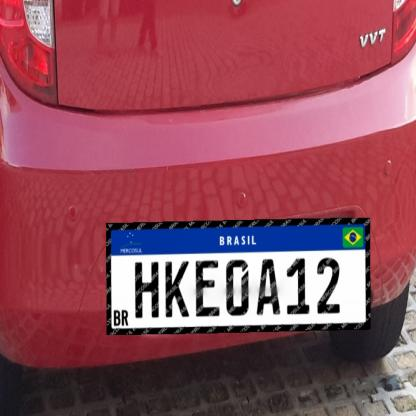PlacaM: (106, 218, 371, 335)
